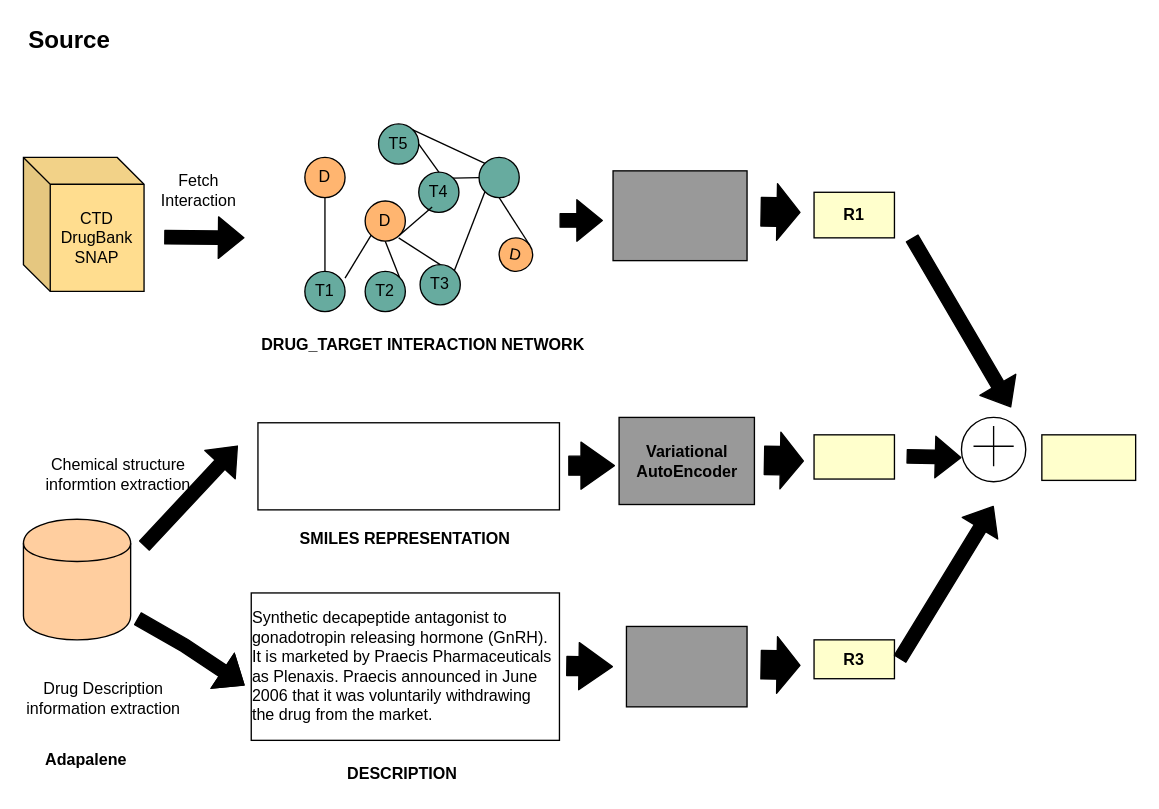
This 1159x809 diagram has some shape labels left out. Each missing label, with the centre of its shape:
COC1=C(C=C(C=C1)C1=CC2=C(C=C1) C=C(C=C2)C(O)=O)C12CC3CC (CC(C3)C1)C2: [408,465]
DrugBank: [76,579]
Metapath2vec: [679,215]
PV-DM: [686,666]
R1:R2:R3: [1088,456]
R2: [853,456]
T6: [498,177]
